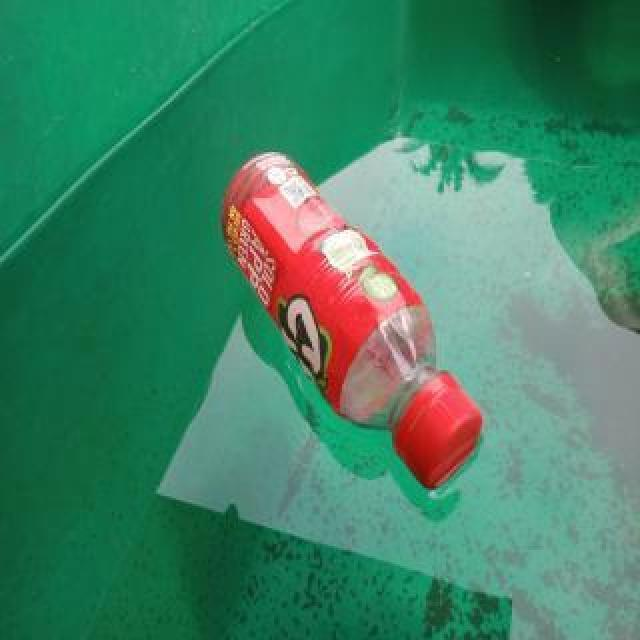bottle: (220, 146, 486, 492)
